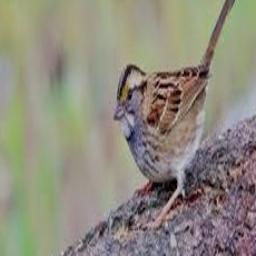Sparrow: (115, 0, 244, 229)
